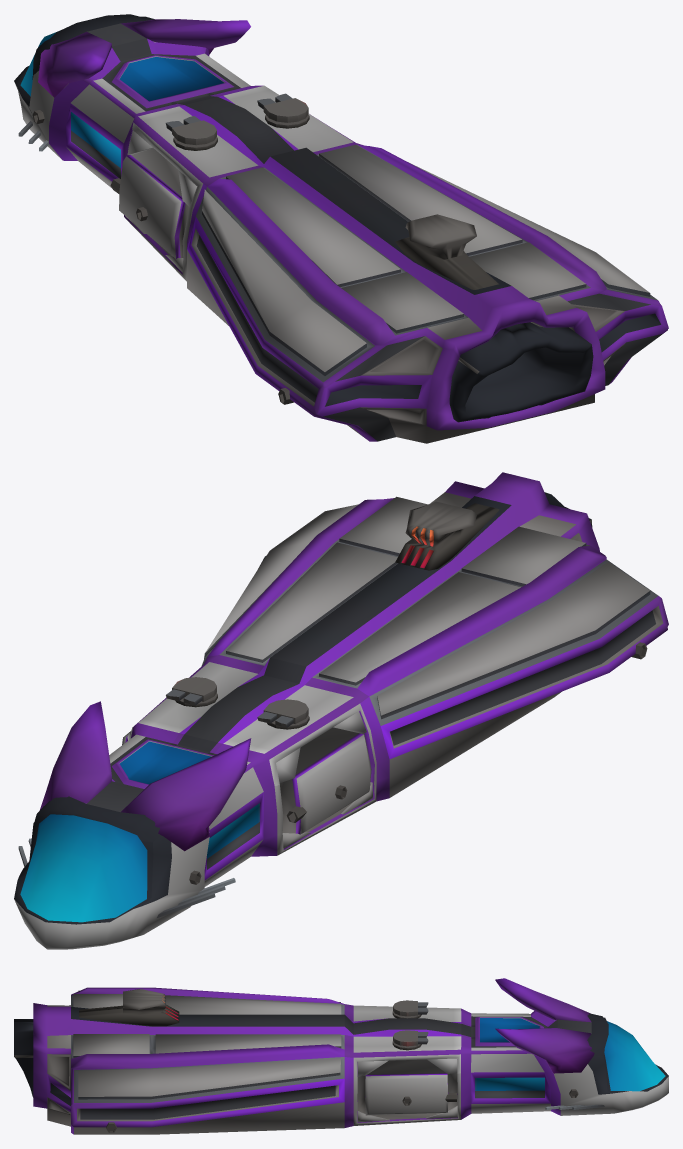
The model's file is only_NewShip-END.glb.
3 views of the same model, one above another, from view 1: azimuth 30°, elevation 25°; view 2: azimuth 150°, elevation 25°; view 3: azimuth 270°, elevation 25° (orthographic). The views are drawn at different scales.
Visible parts, largest first — view 1: Cube.010, Plane.002, Cube.011, Circle.012, Circle.013; view 2: Cube.010, Plane.002, Cube.011, Circle.013, Circle.012, Vert.001; view 3: Cube.010, Plane.002, Cube.011, Circle.012, Circle.013.
Boxes of the visible parts, x1,y1,x2,y2 form: Cube.010: (14,14,668,443); Plane.002: (38,19,250,97); Cube.011: (395,214,498,289); Circle.012: (257,93,309,128); Circle.013: (165,116,217,150); Cube.010: (14,472,668,949); Plane.002: (39,701,251,851); Cube.011: (395,501,499,570); Circle.013: (257,699,309,729); Circle.012: (166,677,217,707); Vert.001: (18,838,235,917); Cube.010: (14,987,668,1134); Plane.002: (495,978,594,1073); Cube.011: (79,989,179,1026); Circle.012: (392,1030,428,1050); Circle.013: (392,1000,428,1018).
Size of the model in its own units: 6.28 by 2.43 by 14.77.
Materials: 1 (1 with a texture image).
